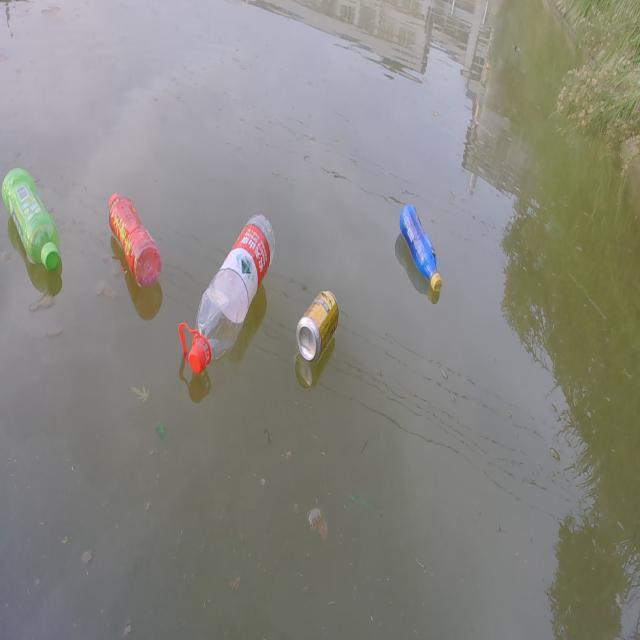garbage: (2, 166, 61, 272), (108, 192, 162, 288), (399, 203, 443, 293), (295, 289, 339, 363)
